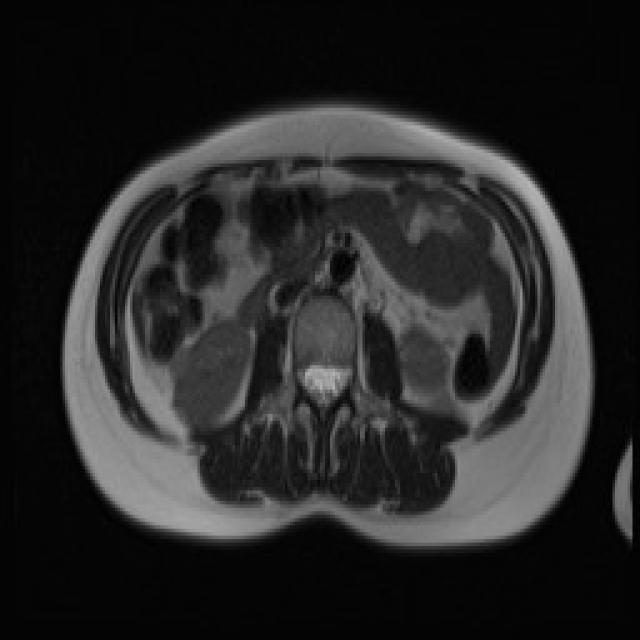sag: (169, 319, 253, 430)
sol: (398, 327, 449, 397)
